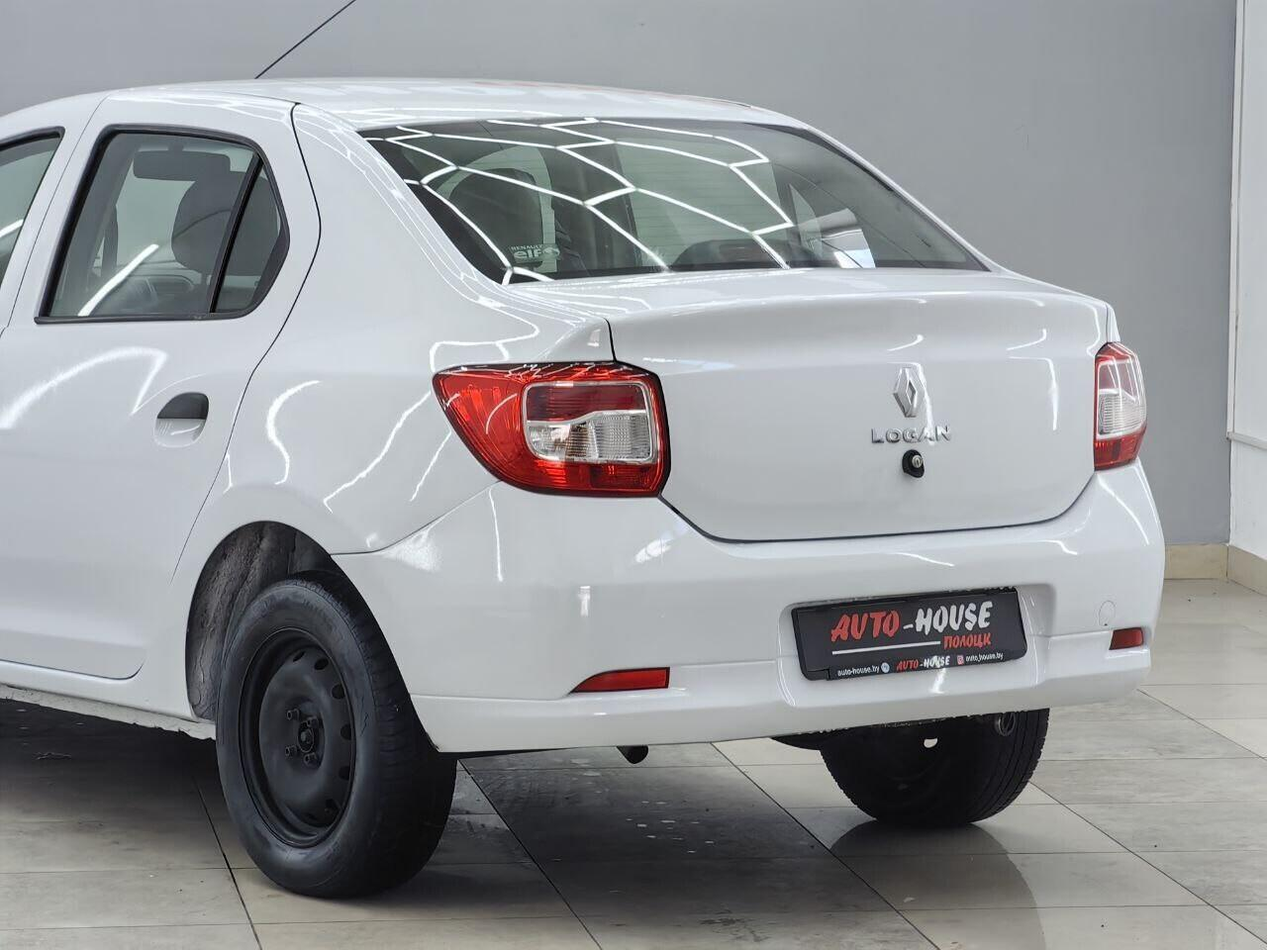Logan_2013-2018: (0, 69, 1168, 934)
